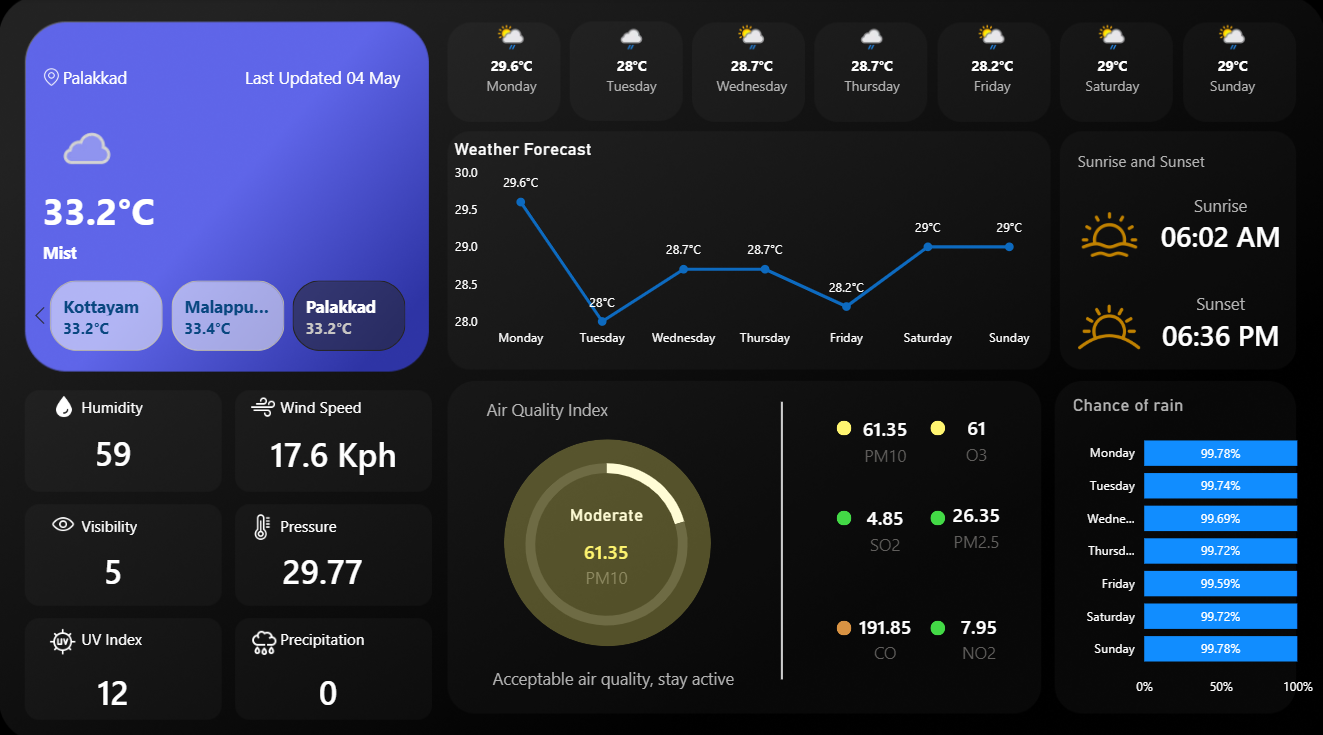

What the dashboard file says about the page in this screenshot:
{"tool":"powerbi","page":{"name":"Page 1","canvas":[1280,720],"ordinal":0},"visuals":[{"type":"advancedSlicerVisual","fields":{"Values":["Locations.location.name"]},"box":[24.7,267.6,393.8,78.2],"z":0},{"type":"shape","box":[42.5,179.8,145.5,43.9],"z":1000},{"type":"shape","box":[42.5,223.7,326.6,43.9],"z":2000},{"type":"shape","box":[61.7,54.9,144.1,43.9],"z":3000},{"type":"shape","box":[227.8,54.9,159.2,43.9],"z":4000},{"type":"image","box":[42.5,54.9,16.5,43.9],"z":5000},{"type":"cardVisual","fields":{"Data":["Min(Current.current.condition.icon)"]},"box":[24.7,111.1,109.8,68.6],"z":6000},{"type":"shape","box":[79.6,384.2,97.4,22],"z":7000},{"type":"shape","box":[271.7,384.2,97.4,22],"z":8000},{"type":"shape","box":[271.7,498.1,97.4,22],"z":9000},{"type":"shape","box":[271.7,607.9,97.4,22],"z":10000},{"type":"shape","box":[79.6,607.9,97.4,22],"z":11000},{"type":"shape","box":[79.6,498.1,97.4,22],"z":12000},{"type":"image","box":[48,384.2,28.8,22],"z":13000},{"type":"image","box":[49.4,494,24.7,28.8],"z":14000},{"type":"image","box":[48,607.9,26.1,26.1],"z":15000},{"type":"image","box":[237.4,382.8,34.3,24.7],"z":16000},{"type":"image","box":[237.4,498.1,32.9,24.7],"z":17000},{"type":"image","box":[237.4,607.9,37,28.8],"z":18000},{"type":"cardVisual","fields":{"Data":["Sum(Current.current.humidity)"]},"box":[59,406.2,102.9,63.1],"z":19000},{"type":"cardVisual","fields":{"Data":["Measure_table.Wind Speed"]},"box":[227.8,395.2,190.7,85.1],"z":20000},{"type":"cardVisual","fields":{"Data":["Sum(Current.current.pressure_in)"]},"box":[237.4,520.1,149.6,63.1],"z":21000},{"type":"cardVisual","fields":{"Data":["Sum(Current.current.precip_in)"]},"box":[266.2,636.7,102.9,63.1],"z":22000},{"type":"cardVisual","fields":{"Data":["Sum(Current.current.vis_km)"]},"box":[59,520.1,102.9,63.1],"z":23000},{"type":"cardVisual","fields":{"Data":["Sum(Current.current.uv)"]},"box":[59,636.7,102.9,63.1],"z":24000},{"type":"advancedSlicerVisual","fields":{"Values":["Forcast_day.Day_Name"]},"box":[435.1,16.1,818.9,95.2],"z":25000},{"type":"lineChart","title":"Weather Forecast","fields":{"Y":["Sum(Forcast_day.forecast.forecastday.day.avgtemp_c)"],"Category":["Forcast_day.Day_Name"]},"box":[434.5,135.6,577.4,211.4],"z":26000},{"type":"shape","box":[1041.2,145.8,141.4,21.9],"z":27000},{"type":"cardVisual","fields":{"Data":["Min(Forcast_day.Sunrise_Date)"]},"box":[1079.1,167.7,201.2,100.6],"z":28000},{"type":"cardVisual","fields":{"Data":["Min(Forcast_day.Sunset_Date)"]},"box":[1079.1,266.8,201.2,93.3],"z":29000},{"type":"image","box":[1030.9,275.6,80.2,84.6],"z":30000},{"type":"image","box":[1012,201.2,119.6,54],"z":31000},{"type":"hundredPercentStackedBarChart","title":"Chance of rain","fields":{"Y":["Sum(Forcast_hours.forecast.forecastday.hour.chance_of_rain)","Measure_table.Left_value_rain"],"Category":["Forcast_day.Day_Name"]},"box":[1030.9,382,242.1,300.4],"z":32000},{"type":"shape","box":[471,386.4,137.1,21.9],"z":33000},{"type":"cardVisual","fields":{"Data":["Sum(Current.current.air_quality.o3)"]},"box":[876.4,382,135.6,87.5],"z":34000},{"type":"cardVisual","fields":{"Data":["Sum(Current.current.air_quality.pm2_5)"]},"box":[876.4,466.6,135.6,87.5],"z":35000},{"type":"cardVisual","fields":{"Data":["Sum(Current.current.air_quality.no2)"]},"box":[877.8,574.5,135.6,87.5],"z":36000},{"type":"cardVisual","fields":{"Data":["Sum(Current.current.air_quality.pm10)"]},"box":[787.4,383.5,135.6,87.5],"z":37000},{"type":"cardVisual","fields":{"Data":["Sum(Current.current.air_quality.so2)"]},"box":[787.4,469.5,135.6,87.5],"z":38000},{"type":"cardVisual","fields":{"Data":["Sum(Current.current.air_quality.co)"]},"box":[787.4,574.5,135.6,87.5],"z":39000},{"type":"shape","box":[807.8,408.3,14.6,14.6],"z":40000},{"type":"shape","box":[898.2,600.8,14.6,14.6],"z":41000},{"type":"shape","box":[807.8,494.3,14.6,14.6],"z":42000},{"type":"shape","box":[807.8,600.8,14.6,14.6],"z":43000},{"type":"shape","box":[898.2,408.3,14.6,14.6],"z":44000},{"type":"shape","box":[898.2,494.3,14.6,14.6],"z":45000},{"type":"shape","box":[736.4,389.3,39.4,268.3],"z":46000},{"type":"cardVisual","fields":{"Data":["Sum(Current.current.air_quality.pm10)"]},"box":[519.1,488.5,135.6,94.8],"z":47000},{"type":"donutChart","fields":{"Y":["Sum(Current.current.air_quality.pm10)","Measure_table.Left_value_PM10"]},"box":[484.1,417,205.6,220.2],"z":47001},{"type":"shape","box":[487,425.8,199.8,199.8],"z":47002},{"type":"shape","box":[450.6,646,285.8,21.9],"z":47003}]}

Visuals, with their boxes in screenshot pixels (x1, y1, x2, y2), scaled from the page's 1280x720 canvas onto the 1323x735 screenshot:
advancedSlicerVisual - Locations.location.name: 26,273,433,353
shape: 44,184,194,228
shape: 44,228,381,273
shape: 64,56,213,101
shape: 235,56,400,101
image: 44,56,61,101
cardVisual - Min(Current.current.condition.icon): 26,113,139,183
shape: 82,392,183,415
shape: 281,392,381,415
shape: 281,508,381,531
shape: 281,621,381,643
shape: 82,621,183,643
shape: 82,508,183,531
image: 50,392,79,415
image: 51,504,77,534
image: 50,621,77,647
image: 245,391,281,416
image: 245,508,279,534
image: 245,621,284,650
cardVisual - Sum(Current.current.humidity): 61,415,167,479
cardVisual - Measure_table.Wind Speed: 235,403,433,490
cardVisual - Sum(Current.current.pressure_in): 245,531,400,595
cardVisual - Sum(Current.current.precip_in): 275,650,381,714
cardVisual - Sum(Current.current.vis_km): 61,531,167,595
cardVisual - Sum(Current.current.uv): 61,650,167,714
advancedSlicerVisual - Forcast_day.Day_Name: 450,16,1296,114
"Weather Forecast" lineChart: 449,138,1046,354
shape: 1076,149,1222,171
cardVisual - Min(Forcast_day.Sunrise_Date): 1115,171,1322,274
cardVisual - Min(Forcast_day.Sunset_Date): 1115,272,1322,368
image: 1066,281,1148,368
image: 1046,205,1170,261
"Chance of rain" hundredPercentStackedBarChart: 1066,390,1316,697
shape: 487,394,629,417
cardVisual - Sum(Current.current.air_quality.o3): 906,390,1046,479
cardVisual - Sum(Current.current.air_quality.pm2_5): 906,476,1046,566
cardVisual - Sum(Current.current.air_quality.no2): 907,586,1047,676
cardVisual - Sum(Current.current.air_quality.pm10): 814,391,954,481
cardVisual - Sum(Current.current.air_quality.so2): 814,479,954,569
cardVisual - Sum(Current.current.air_quality.co): 814,586,954,676
shape: 835,417,850,432
shape: 928,613,943,628
shape: 835,505,850,520
shape: 835,613,850,628
shape: 928,417,943,432
shape: 928,505,943,520
shape: 761,397,802,671
cardVisual - Sum(Current.current.air_quality.pm10): 537,499,677,595
donutChart - Sum(Current.current.air_quality.pm10) x Measure_table.Left_value_PM10: 500,426,713,650
shape: 503,435,710,639
shape: 466,659,761,682
